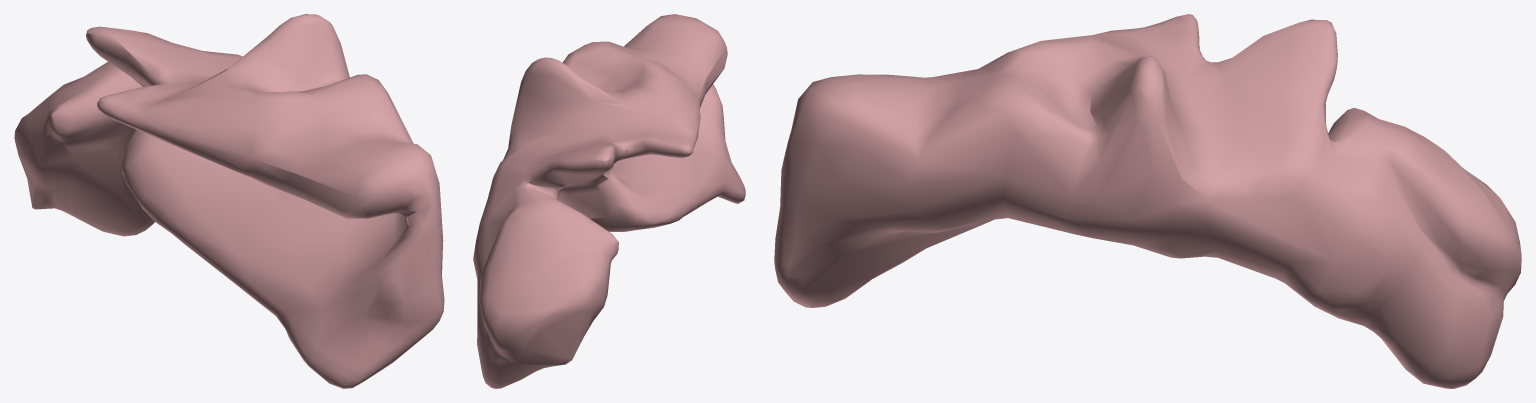
Rendered from fma72805_fj1839.glb.
The picture shows the model from 3 angles, left to right: view 1: azimuth 30°, elevation 25°; view 2: azimuth 150°, elevation 25°; view 3: azimuth 270°, elevation 25°; orthographic projection. The views are drawn at different scales.
Visible parts, largest first — view 1: FMA72805_FJ1839; view 2: FMA72805_FJ1839; view 3: FMA72805_FJ1839.
Part boxes in pixels (bbox=[...]): FMA72805_FJ1839: bbox=[14, 14, 444, 388]; FMA72805_FJ1839: bbox=[473, 14, 745, 388]; FMA72805_FJ1839: bbox=[774, 14, 1521, 388].
Size of the model in its own units: 0.0317 by 0.0391 by 0.0737.
